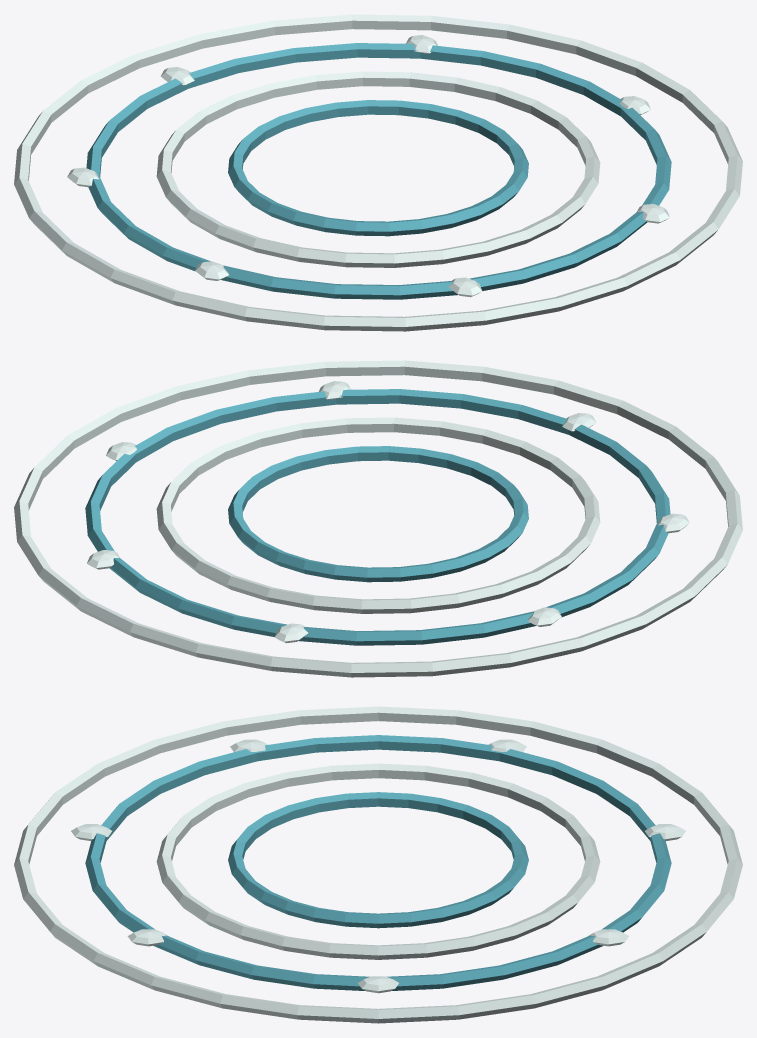
The model's file is remolino.glb.
The picture shows the model from 3 angles, top to bottom: view 1: azimuth 30°, elevation 25°; view 2: azimuth 150°, elevation 25°; view 3: azimuth 270°, elevation 25°; orthographic projection.
Visible parts, largest first — view 1: remolino; view 2: remolino; view 3: remolino.
Part boxes in pixels (left/top/right/bottom): remolino: left=14, top=14, right=742, bottom=331; remolino: left=14, top=360, right=742, bottom=677; remolino: left=14, top=706, right=742, bottom=1023.
Size of the model in its own units: 4.09 by 0.1137 by 4.09.
